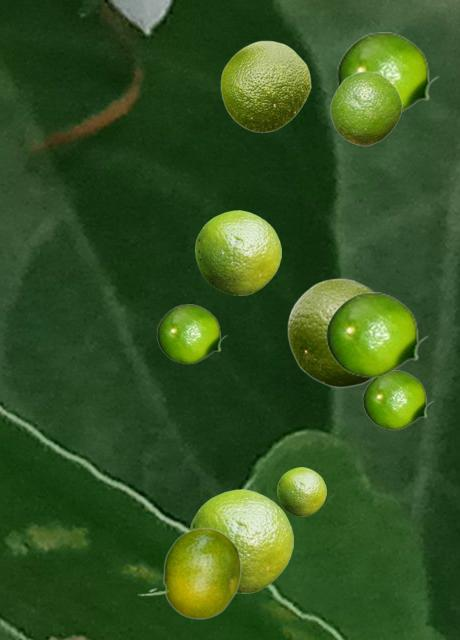calamansi: (189, 489, 292, 592), (287, 277, 374, 387), (137, 527, 240, 618), (325, 292, 428, 377), (336, 32, 439, 114), (220, 40, 310, 132), (195, 210, 280, 294), (330, 71, 401, 145), (362, 370, 433, 429), (156, 304, 227, 363), (277, 467, 325, 515)
